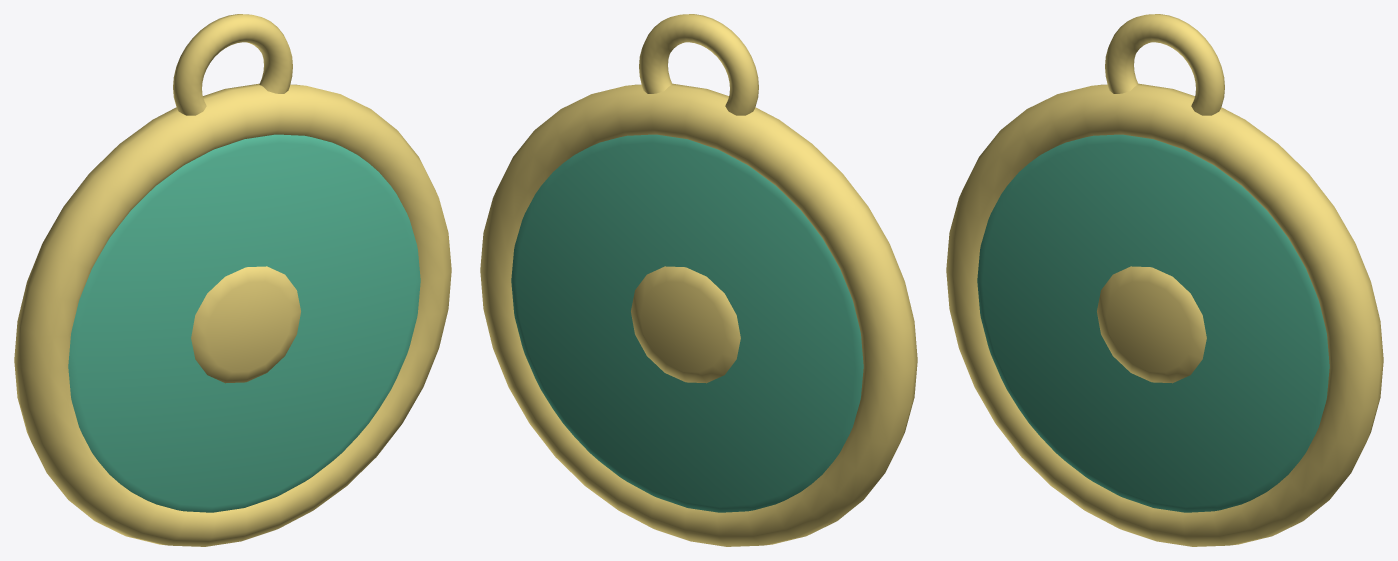
File: SM_Art_JadeAmulet.fbx
3 views of the same model, side by side, from view 1: azimuth 30°, elevation 25°; view 2: azimuth 150°, elevation 25°; view 3: azimuth 330°, elevation 25° (orthographic).
Visible parts, largest first — view 1: JadeDisc, GoldRim, CenterSeal, TopBail; view 2: JadeDisc, GoldRim, CenterSeal, TopBail; view 3: JadeDisc, GoldRim, CenterSeal, TopBail.
Boxes of the visible parts, bbox=[...] form: JadeDisc: bbox=[68, 134, 420, 512]; GoldRim: bbox=[14, 83, 451, 546]; CenterSeal: bbox=[191, 266, 300, 383]; TopBail: bbox=[173, 14, 292, 115]; JadeDisc: bbox=[511, 134, 863, 512]; GoldRim: bbox=[480, 83, 917, 546]; CenterSeal: bbox=[631, 266, 740, 383]; TopBail: bbox=[639, 14, 758, 115]; JadeDisc: bbox=[977, 134, 1329, 512]; GoldRim: bbox=[946, 83, 1383, 546]; CenterSeal: bbox=[1097, 266, 1206, 383]; TopBail: bbox=[1105, 14, 1224, 115].
Size of the model in its own units: 0.17 by 0.198 by 0.022.
